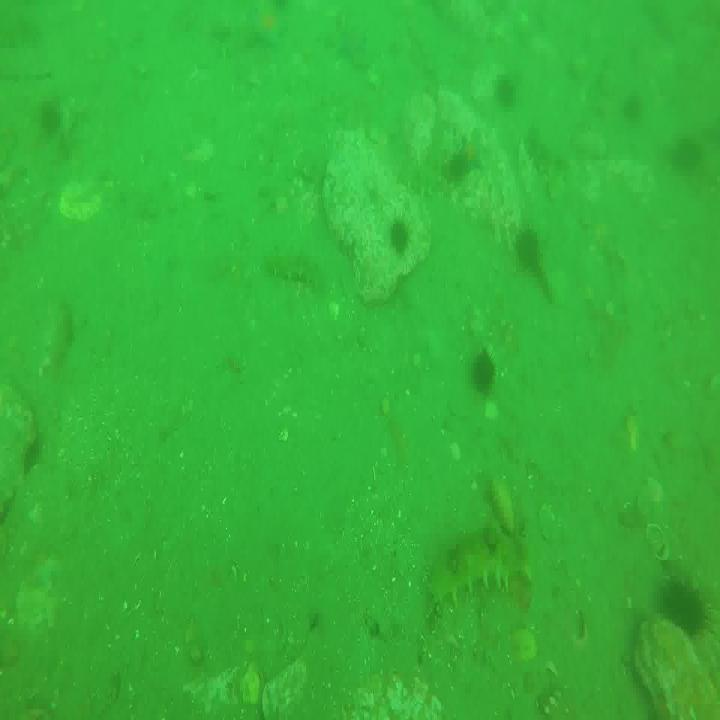echinus: (666, 577, 706, 643), (678, 134, 710, 182), (517, 230, 543, 270), (472, 352, 496, 395), (39, 97, 64, 138), (448, 147, 467, 192), (389, 215, 410, 254), (625, 91, 646, 129), (496, 73, 515, 105)
holothurian: (432, 536, 533, 608), (263, 245, 324, 289), (528, 126, 568, 179), (402, 159, 444, 199)
starfish: (240, 10, 288, 53), (459, 131, 486, 169)
